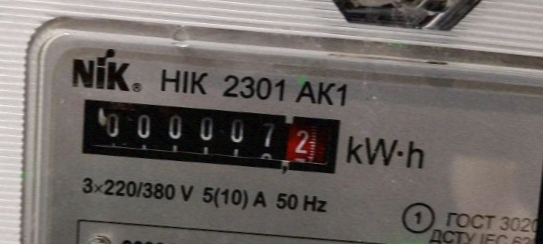0: (102, 107, 122, 136), (165, 109, 184, 139), (196, 112, 216, 140), (134, 109, 153, 137), (228, 114, 246, 143)
2: (292, 126, 311, 154)
7: (259, 116, 277, 148)
screen: (67, 83, 353, 185)
